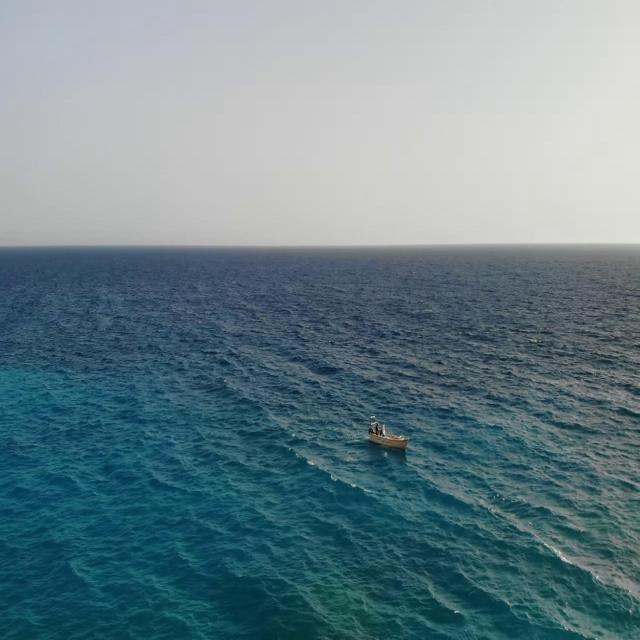boat: (367, 412, 398, 456)
